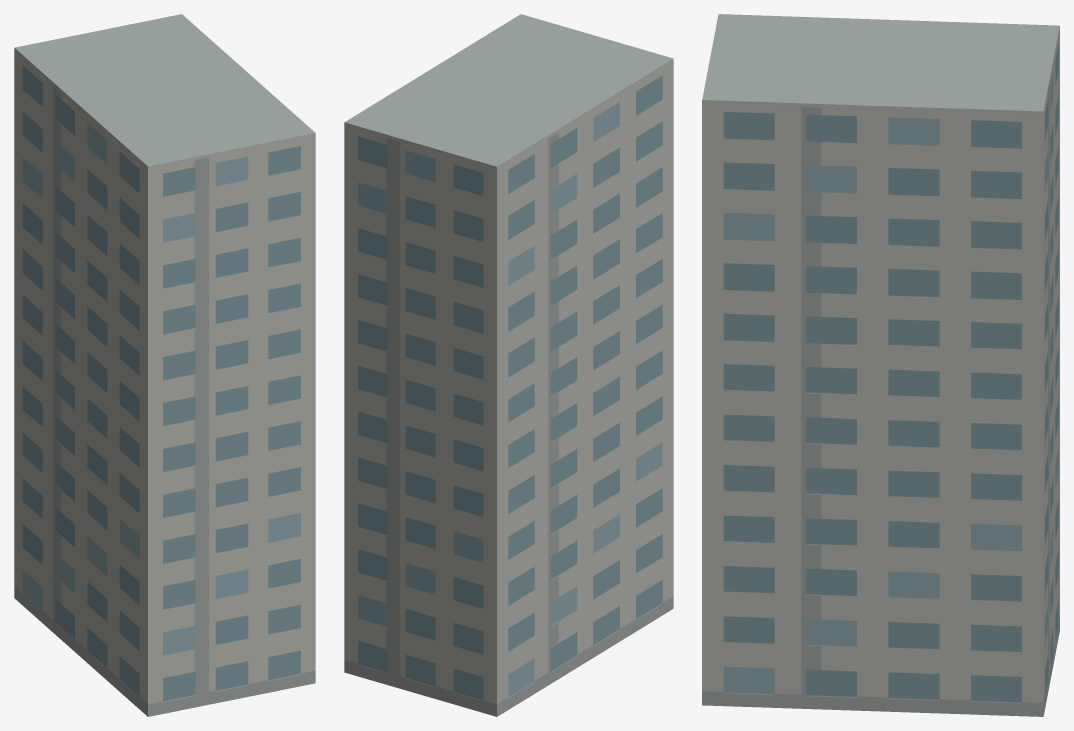
Rendered from residential-2004f177-52a6-49e4-a752-e95791e95d4c.glb.
3 views of the same model, side by side, from view 1: azimuth 30°, elevation 25°; view 2: azimuth 150°, elevation 25°; view 3: azimuth 270°, elevation 25° (orthographic). The views are drawn at different scales.
Visible parts, largest first — view 1: residential-2004f177-52a6-49e4-a752-e95791e95d4c.tmp; view 2: residential-2004f177-52a6-49e4-a752-e95791e95d4c.tmp; view 3: residential-2004f177-52a6-49e4-a752-e95791e95d4c.tmp.
Part boxes in pixels (x1=…): residential-2004f177-52a6-49e4-a752-e95791e95d4c.tmp: x1=14, y1=14, x2=315, y2=716; residential-2004f177-52a6-49e4-a752-e95791e95d4c.tmp: x1=344, y1=14, x2=673, y2=716; residential-2004f177-52a6-49e4-a752-e95791e95d4c.tmp: x1=702, y1=14, x2=1059, y2=716.
Size of the model in its own units: 13.82 by 40 by 21.43.
